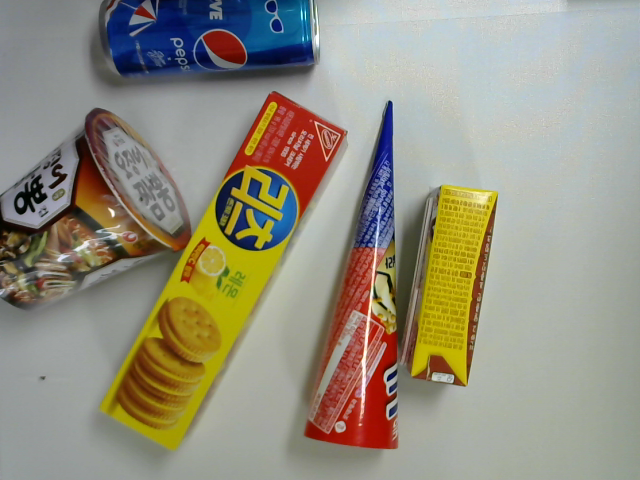Choco_E_Mong: (401, 180, 508, 402)
Ojjam: (1, 102, 195, 317)
Pepsi_Cola_Can_250ml: (90, 1, 325, 84)
Ritz_Remon_96g: (97, 85, 352, 455)
World_Cone_Banila: (300, 96, 405, 454)
